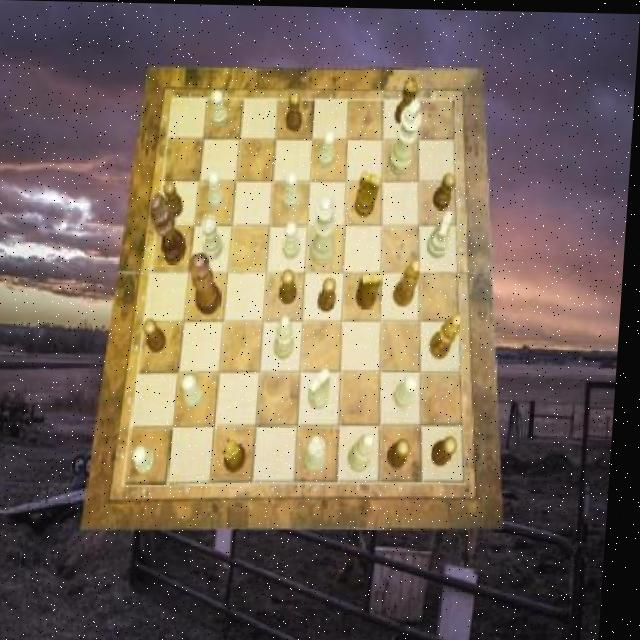bishop: (434, 311, 467, 357), (397, 260, 425, 306)
black-bishop: (151, 192, 194, 265)
black-king: (357, 169, 383, 216), (359, 270, 386, 308)
black-knight: (434, 171, 459, 209), (146, 318, 172, 353), (438, 433, 464, 464), (393, 436, 418, 468), (166, 180, 188, 216), (287, 90, 306, 130), (283, 267, 303, 303), (321, 275, 341, 310)
black-pawn: (190, 251, 229, 314)
black-queen: (395, 75, 420, 124), (228, 437, 253, 472)
black-rook: (354, 433, 381, 472), (279, 314, 301, 357)
white-bishop: (390, 96, 425, 173)
white-king: (430, 209, 455, 257), (312, 367, 336, 408)
white-knight: (186, 374, 211, 409), (399, 372, 424, 406), (208, 170, 228, 209), (285, 171, 304, 210), (212, 89, 232, 126), (286, 220, 305, 258), (319, 129, 338, 167), (138, 446, 163, 474)
white-pawn: (312, 195, 342, 265)
white-queen: (204, 213, 229, 260), (310, 435, 334, 472)
